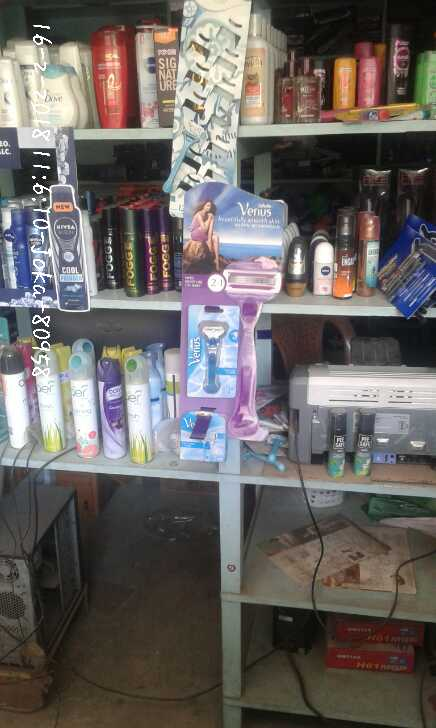venus: (187, 302, 240, 402), (175, 408, 229, 463)
